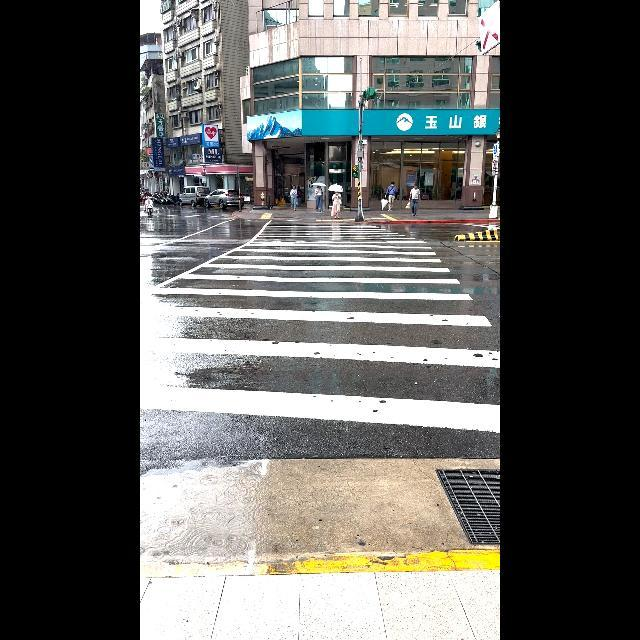sidewalk: (140, 219, 500, 468)
